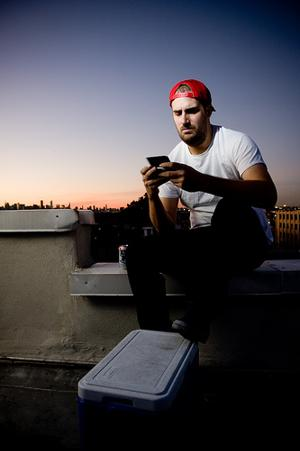person: (126, 78, 277, 346)
